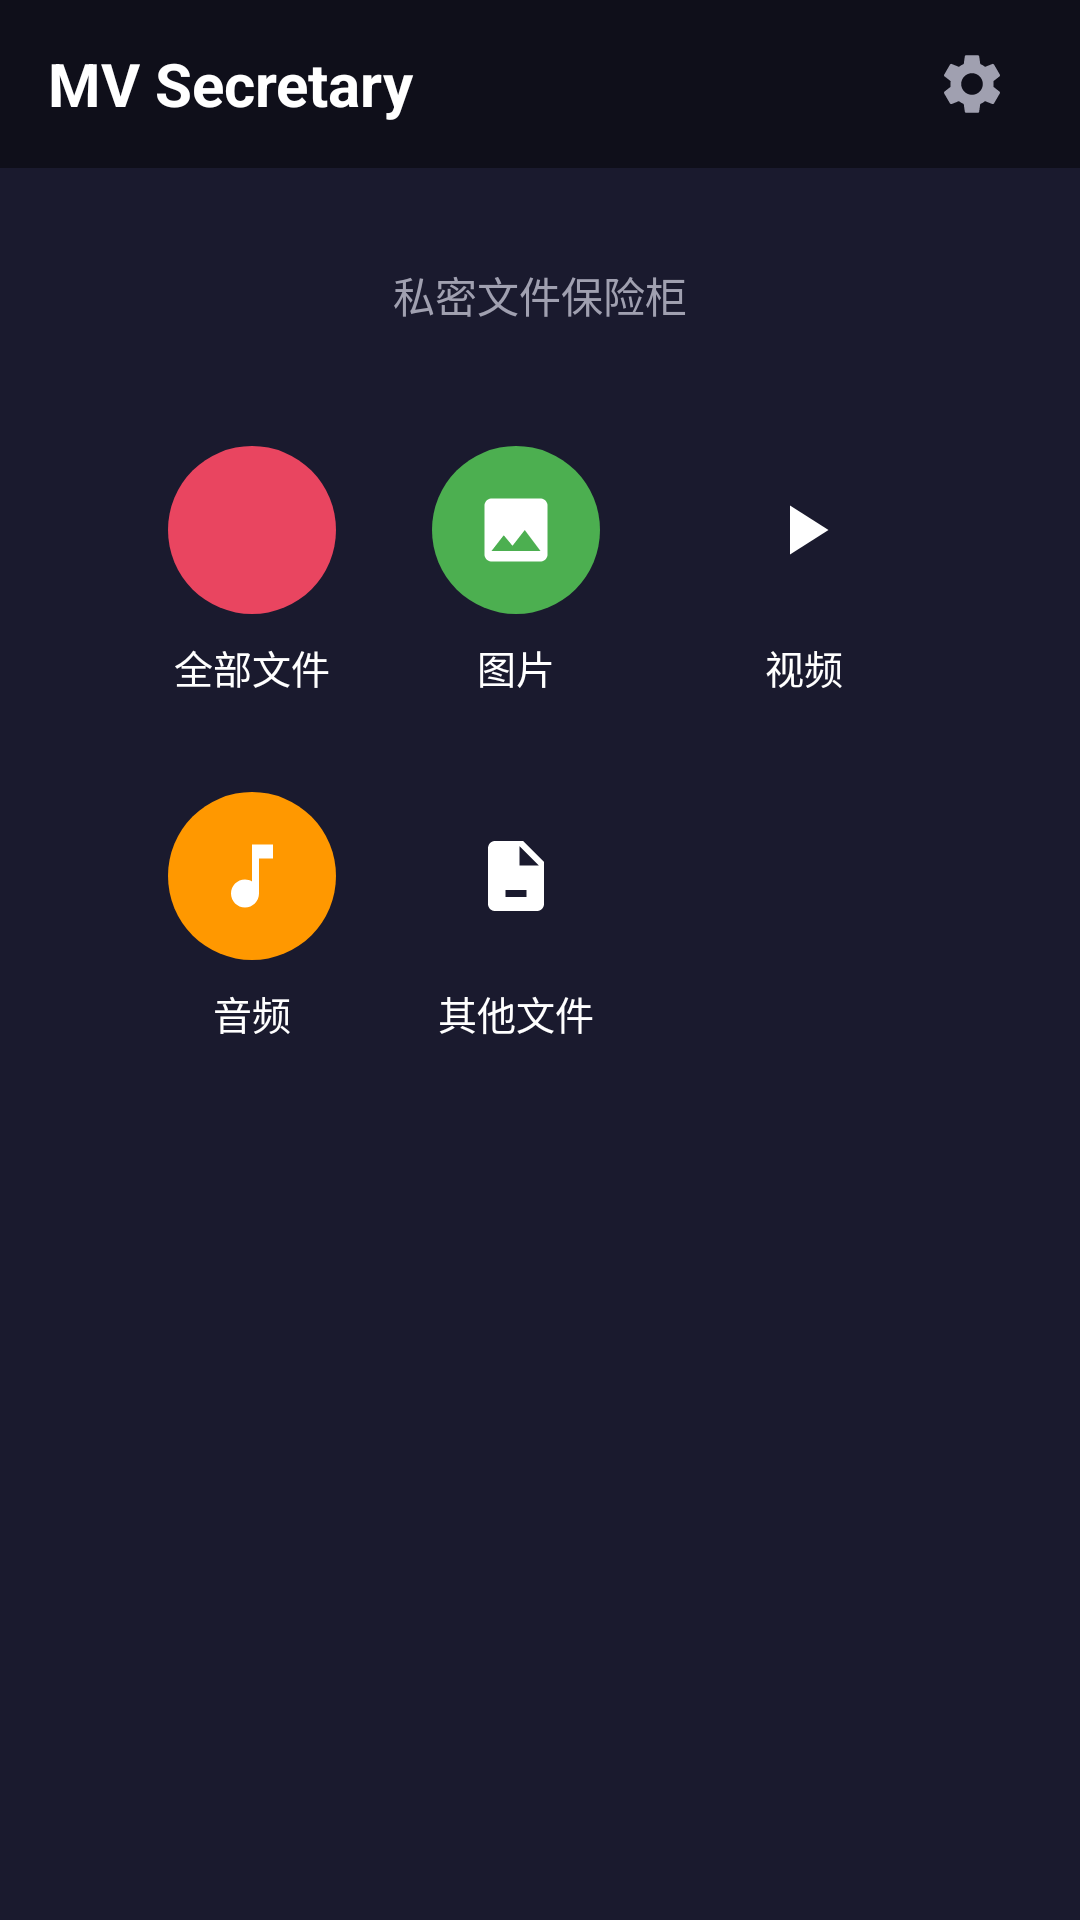

Icons on this 1080 × 1920 Android screen, each with its box as [x1, y1, x2, y2]:
Audio: [231, 844, 273, 908]
Images: [484, 498, 548, 562]
Other: [488, 841, 544, 911]
Settings: [944, 55, 1000, 113]
Videos: [790, 505, 828, 555]
